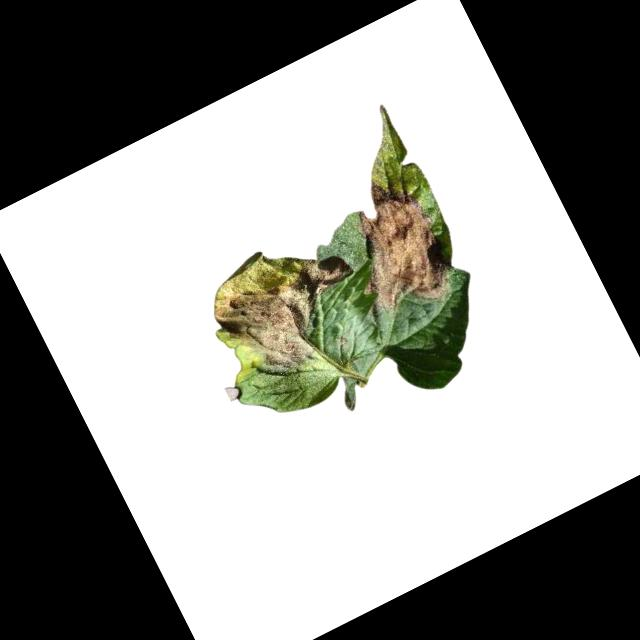Late_blight: (190, 216, 378, 393), (322, 169, 463, 330)
